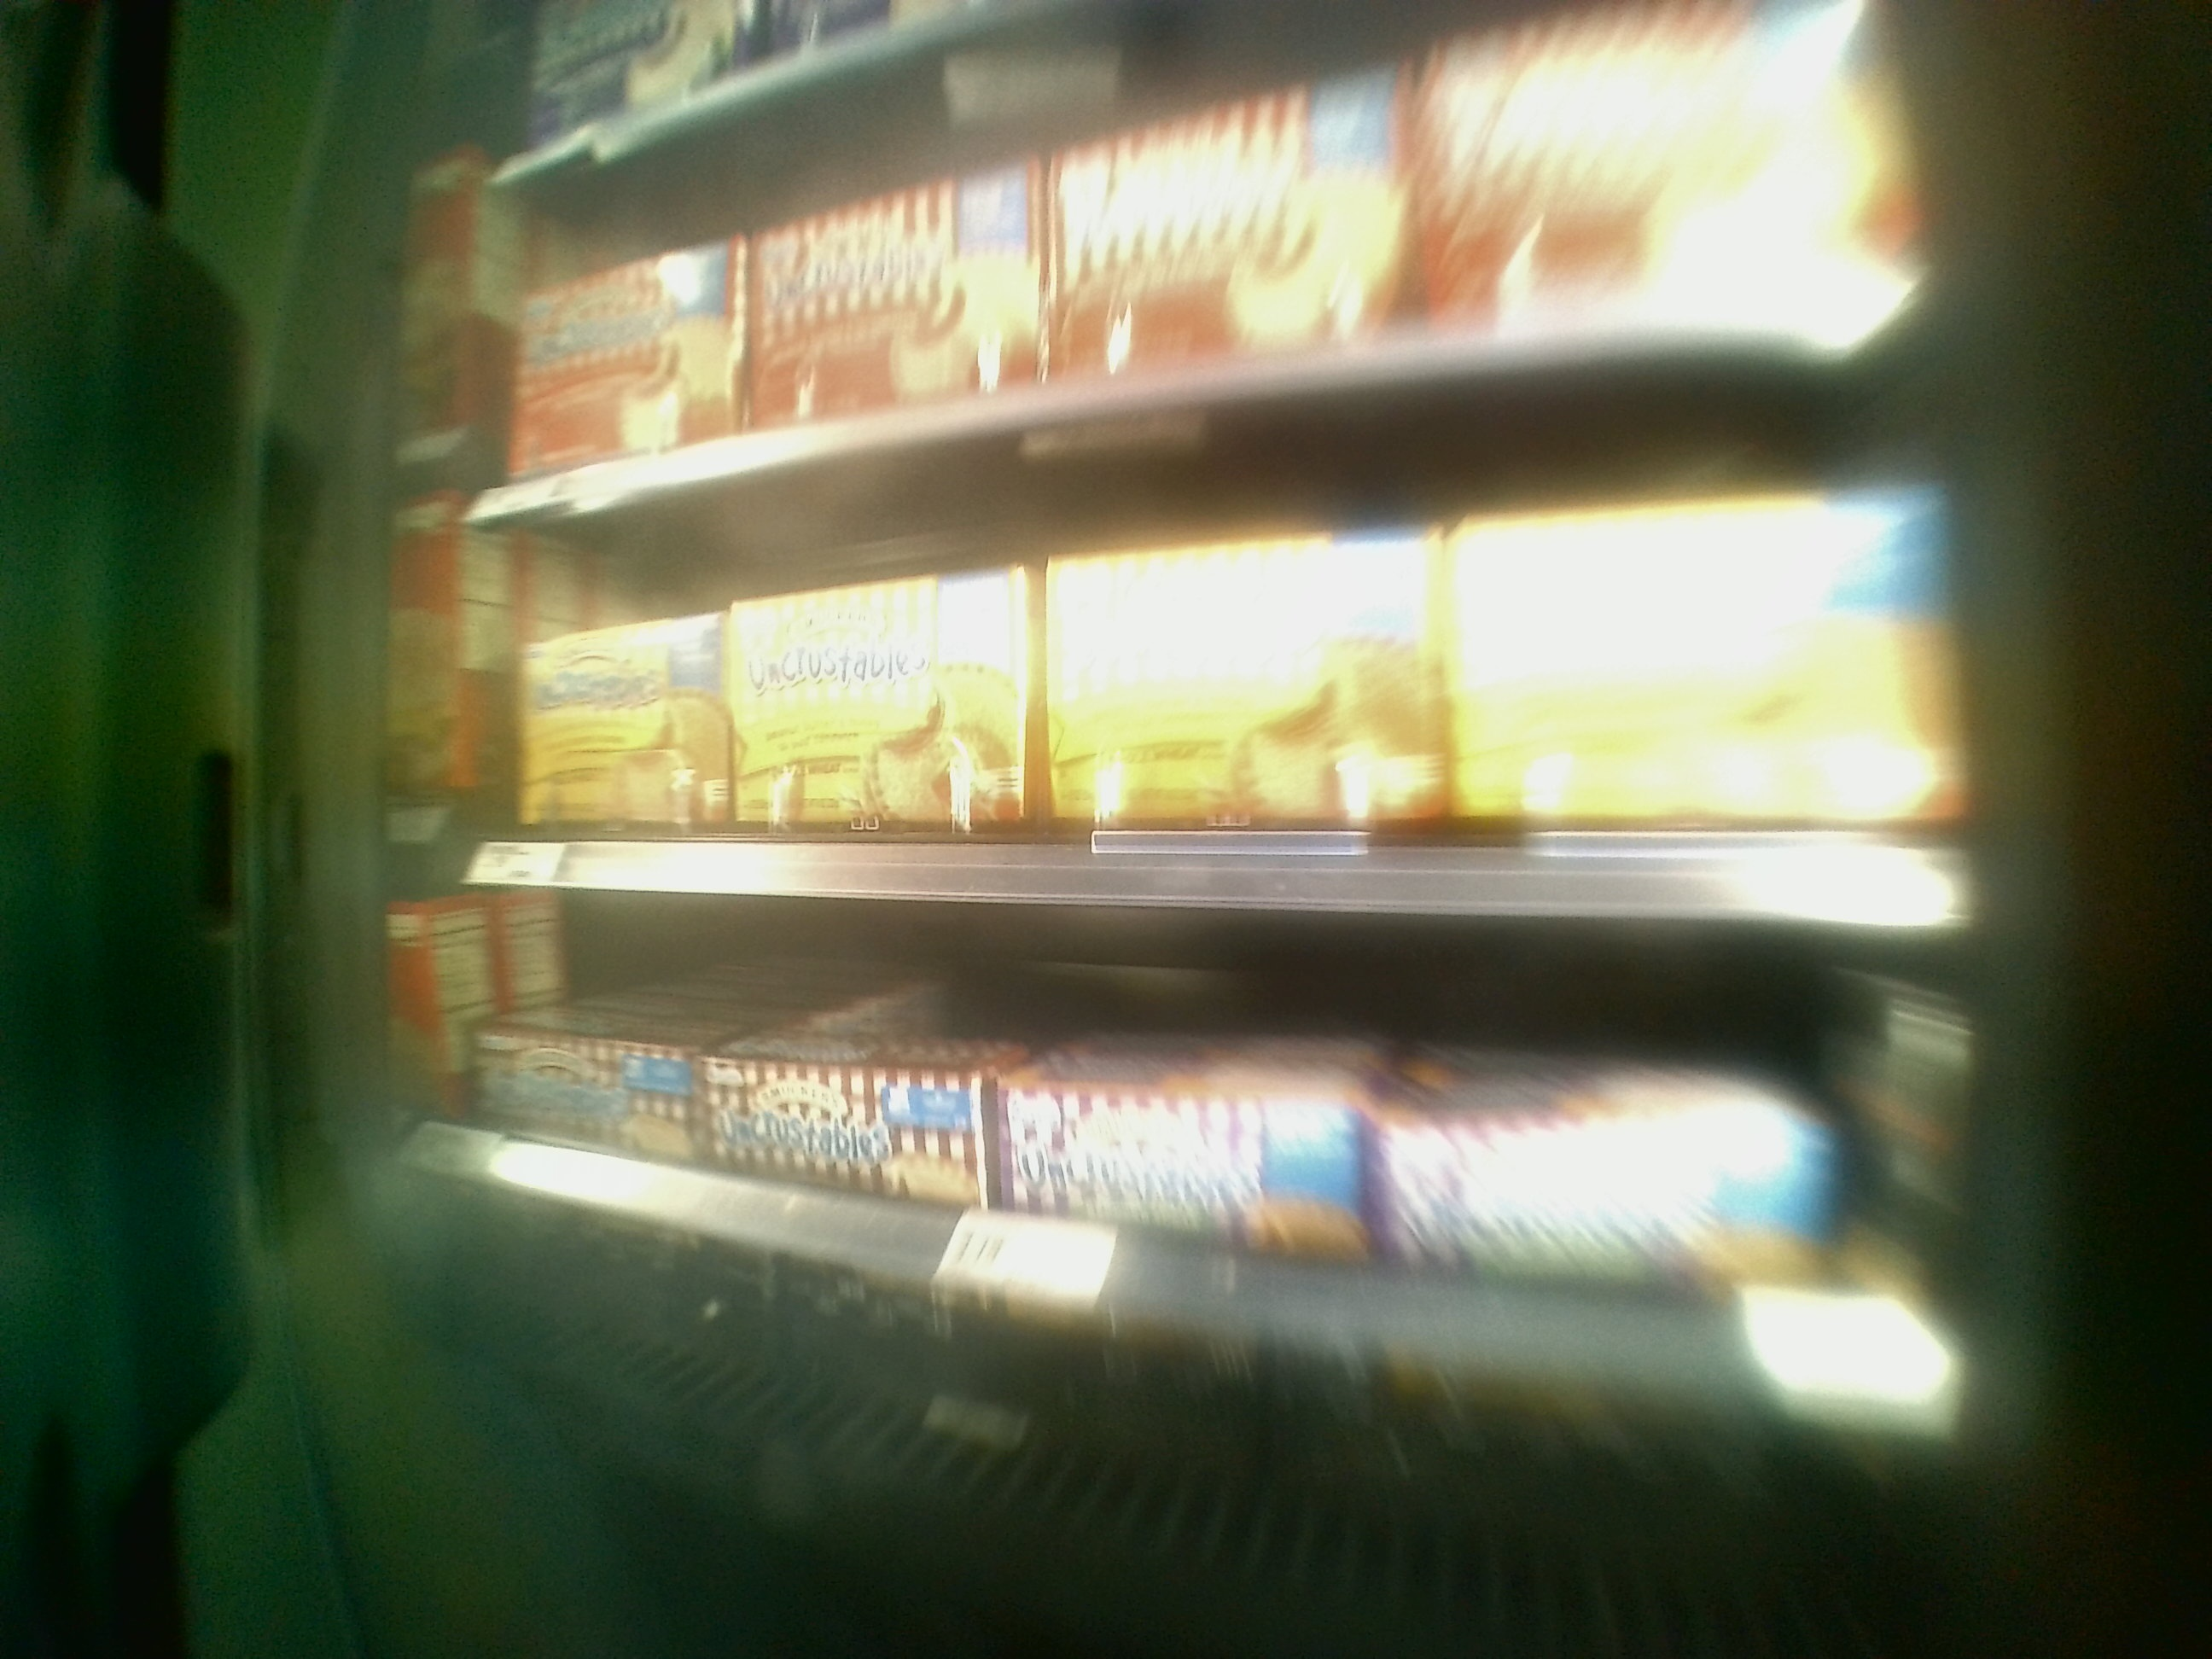shelf: (455, 843, 1939, 1368), (465, 502, 1956, 911), (500, 30, 1928, 429)
